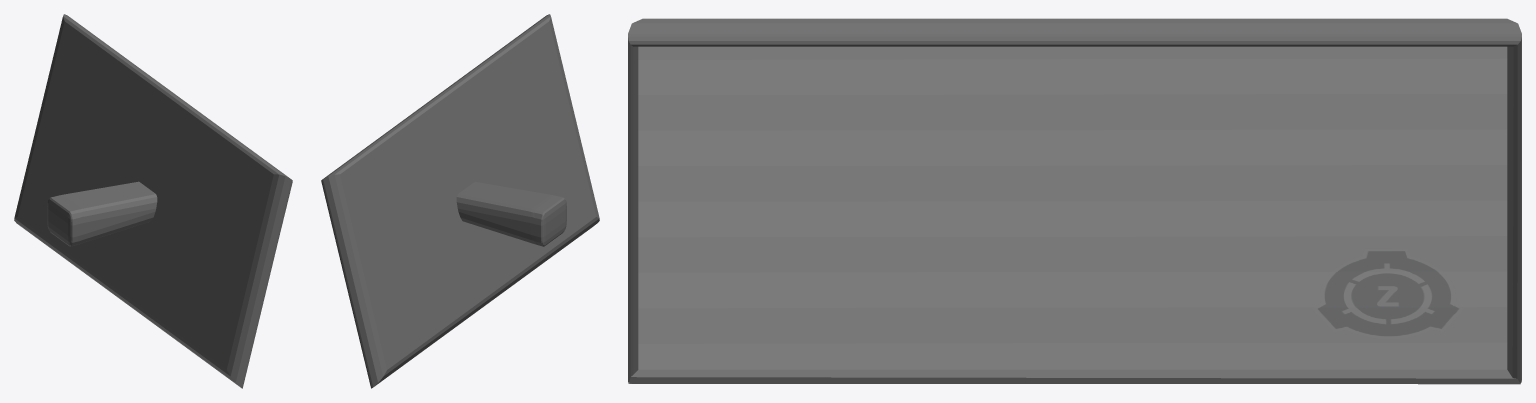
Rendered from tele.obj.
3 views of the same model, side by side, from view 1: azimuth 30°, elevation 25°; view 2: azimuth 150°, elevation 25°; view 3: azimuth 270°, elevation 25° (orthographic). The views are drawn at different scales.
Visible parts, largest first — view 1: Cube_Cube.001, Cube.001_Cube.003; view 2: Cube_Cube.001, Cube.001_Cube.003; view 3: Cube_Cube.001.
Boxes of the visible parts, <box> form: Cube_Cube.001: <box>14,14,292,388</box>; Cube.001_Cube.003: <box>47,181,157,246</box>; Cube_Cube.001: <box>321,14,599,388</box>; Cube.001_Cube.003: <box>456,181,566,246</box>; Cube_Cube.001: <box>628,18,1521,384</box>.
Bounding box in the file's own units: 0.3967 × 0.6215 × 1.25.
2 materials, 2 textured.
